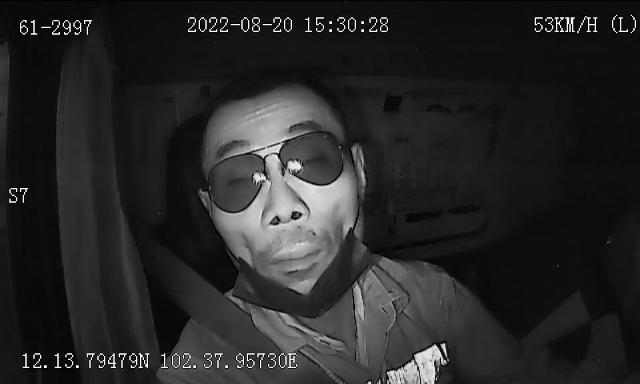Seatbelt: (142, 246, 328, 384)
